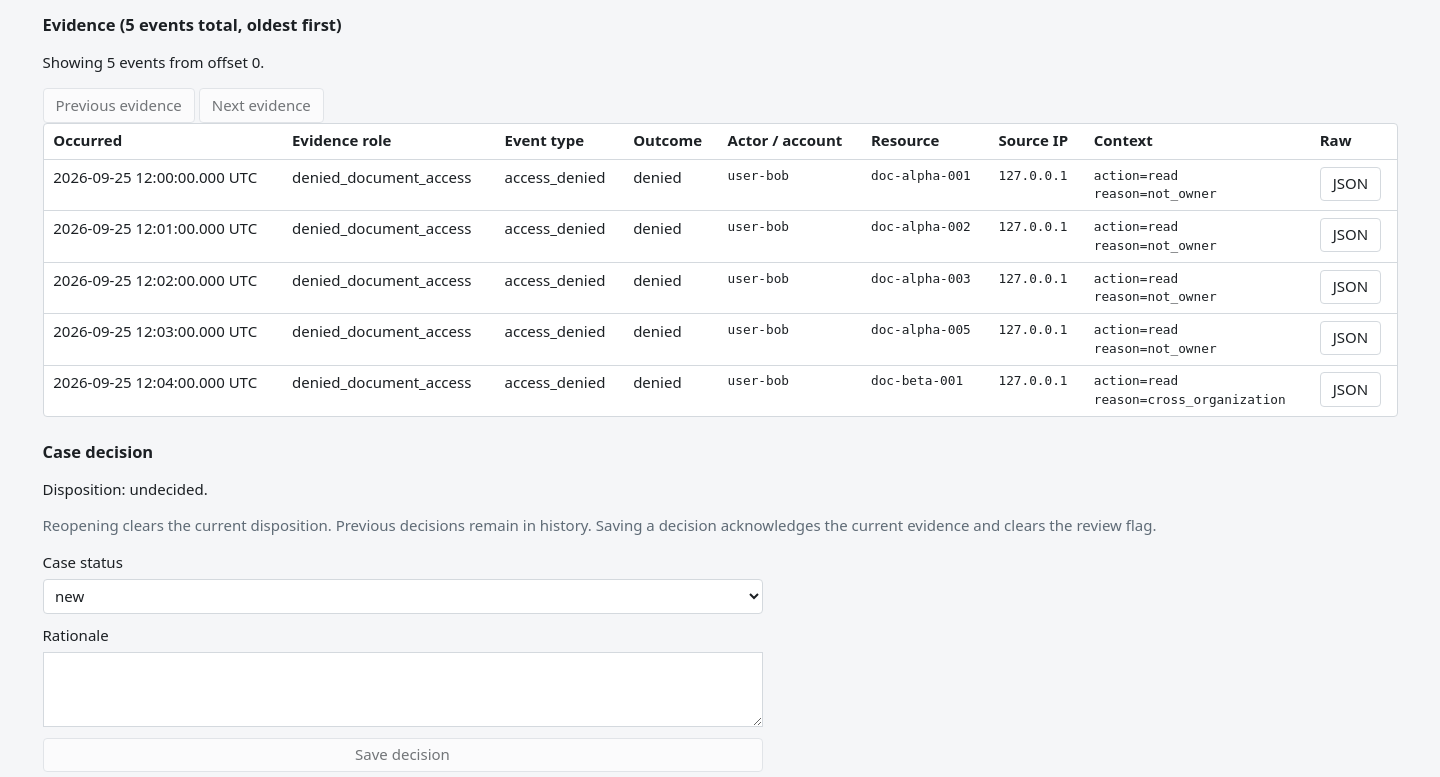
Test: analyst investigation › follows an alert to its reason and time-ordered raw evidence
(page scrolled)
expect the row that starts with "2026-09-25 12:04:00.000 UTC" shows "reason=cross_organization": met, box [44,365,1396,416]
expect the row that starts with "2026-09-25 12:00:00.000 UTC" is shown: met, box [53,167,257,187]
Click the button with aria-label "Raw event app-4": (1350, 390) [1320,372,1381,407]
(page scrolled)
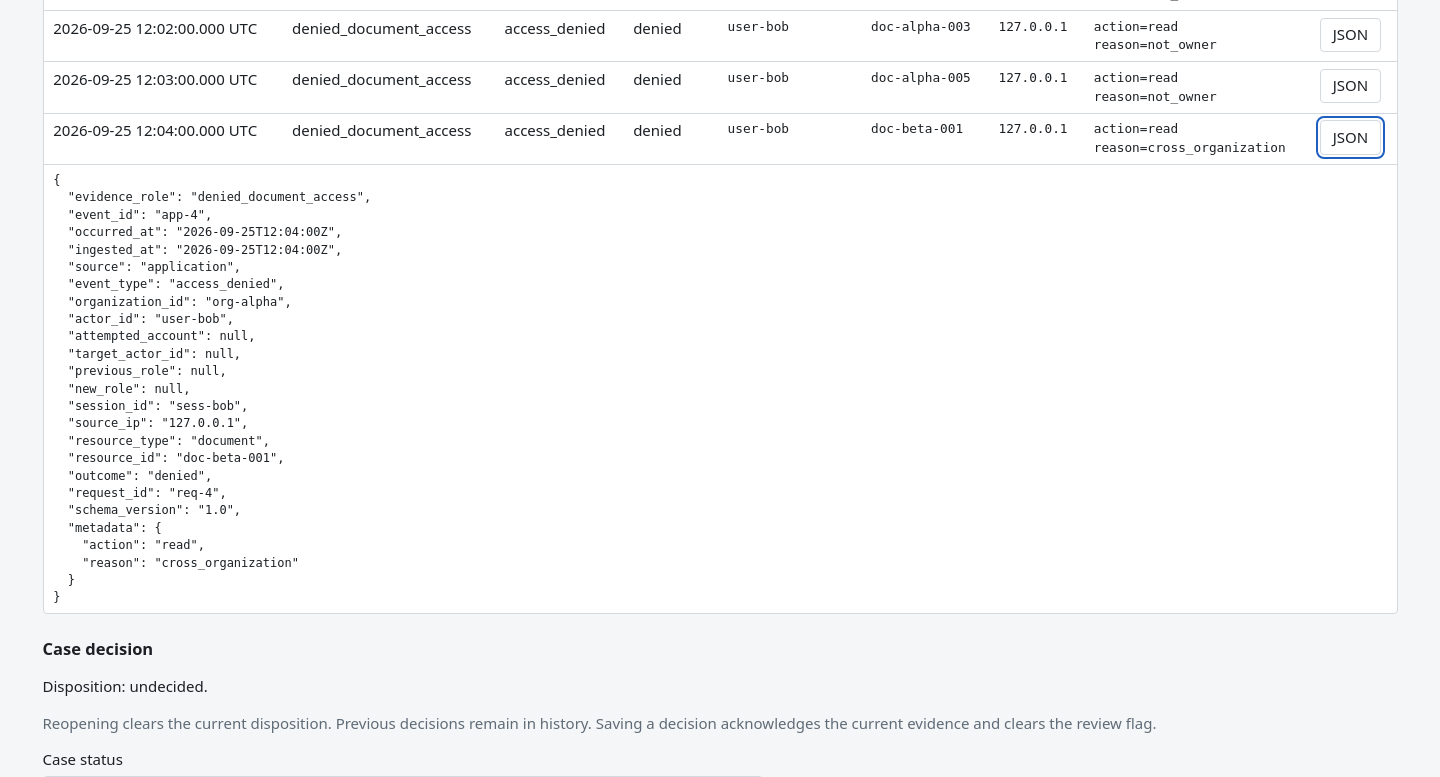
expect the text "\"request_id\": \"req-4\"" is shown: met, box [53,173,371,604]
